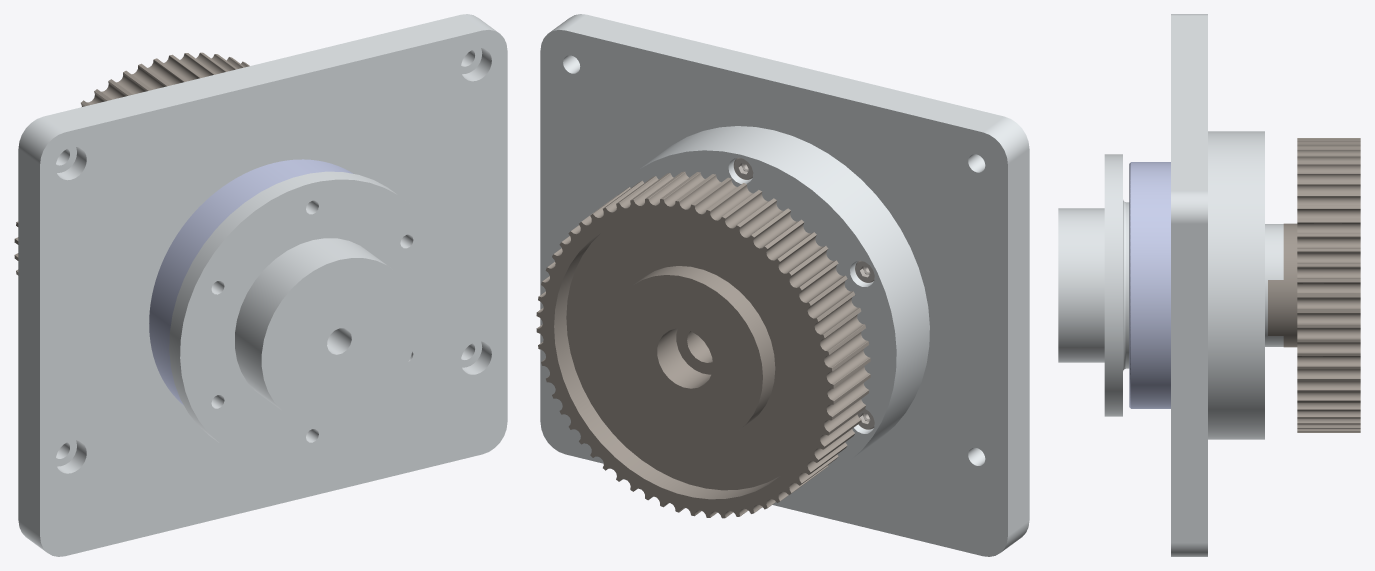
File: STEM.obj
The picture shows the model from 3 angles, left to right: view 1: azimuth 30°, elevation 25°; view 2: azimuth 150°, elevation 25°; view 3: azimuth 270°, elevation 25°; orthographic projection. The views are drawn at different scales.
Parts seen in each view (by area): view 1: STEM; view 2: STEM; view 3: STEM.
Boxes of the visible parts, x1=… form: STEM: x1=14, y1=14, x2=507, y2=556; STEM: x1=536, y1=14, x2=1029, y2=556; STEM: x1=1058, y1=14, x2=1360, y2=556.
Bounding box in the file's own units: 0.15 × 0.13 × 0.098.
